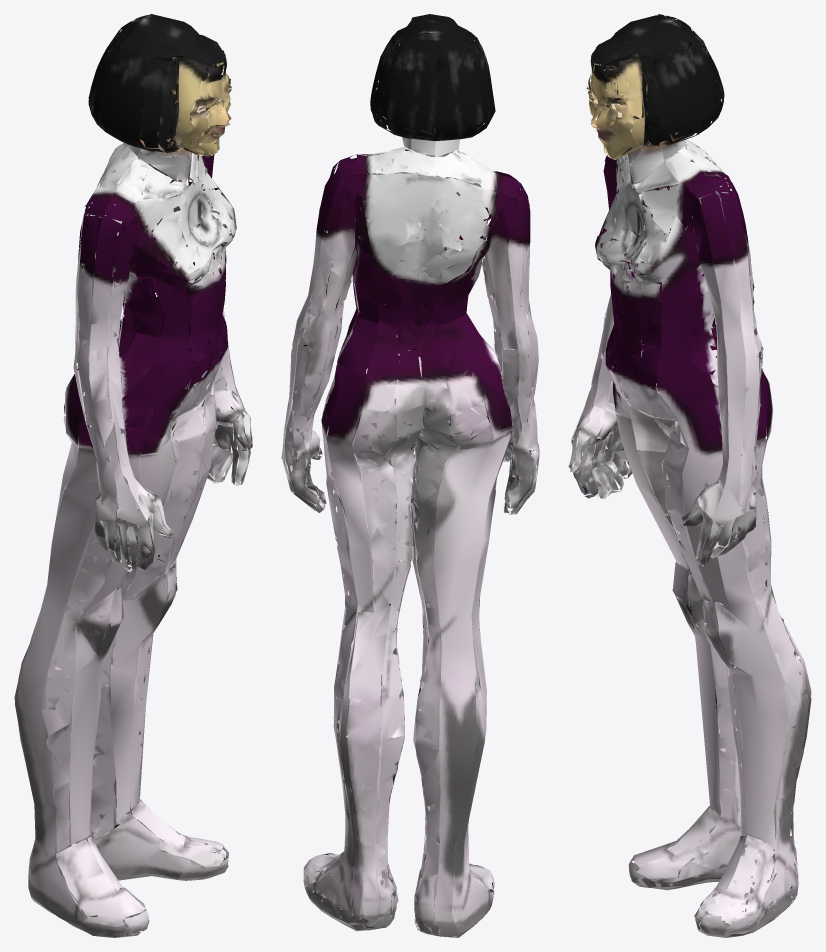
The model's file is dupli-kate.glb.
3 views of the same model, side by side, from view 1: azimuth 30°, elevation 25°; view 2: azimuth 150°, elevation 25°; view 3: azimuth 270°, elevation 25° (orthographic). The views are drawn at different scales.
Parts seen in each view (by area): view 1: low; view 2: low; view 3: low.
Boxes of the visible parts, box(x1,y1,x2,y2) form: low: box(14, 14, 252, 937); low: box(281, 14, 539, 937); low: box(568, 14, 811, 937).
Size of the model in its own units: 0.2218 by 0.872 by 0.2186.
1 material, 1 textured.
